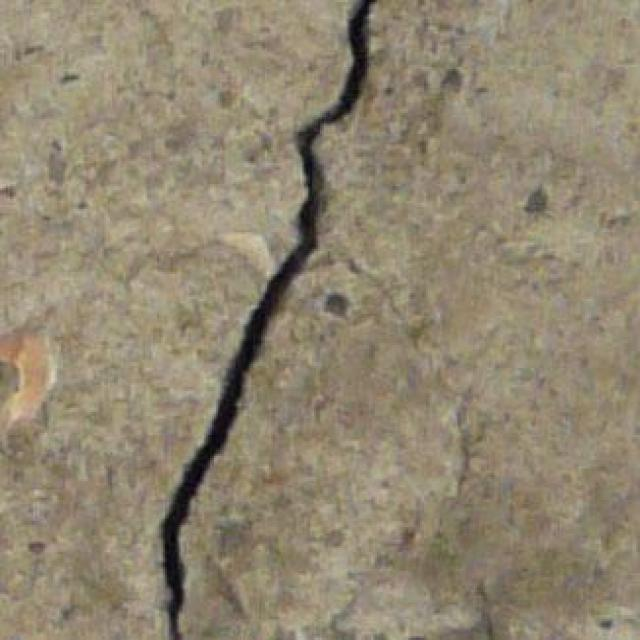diagonal crack: (157, 0, 375, 638)
